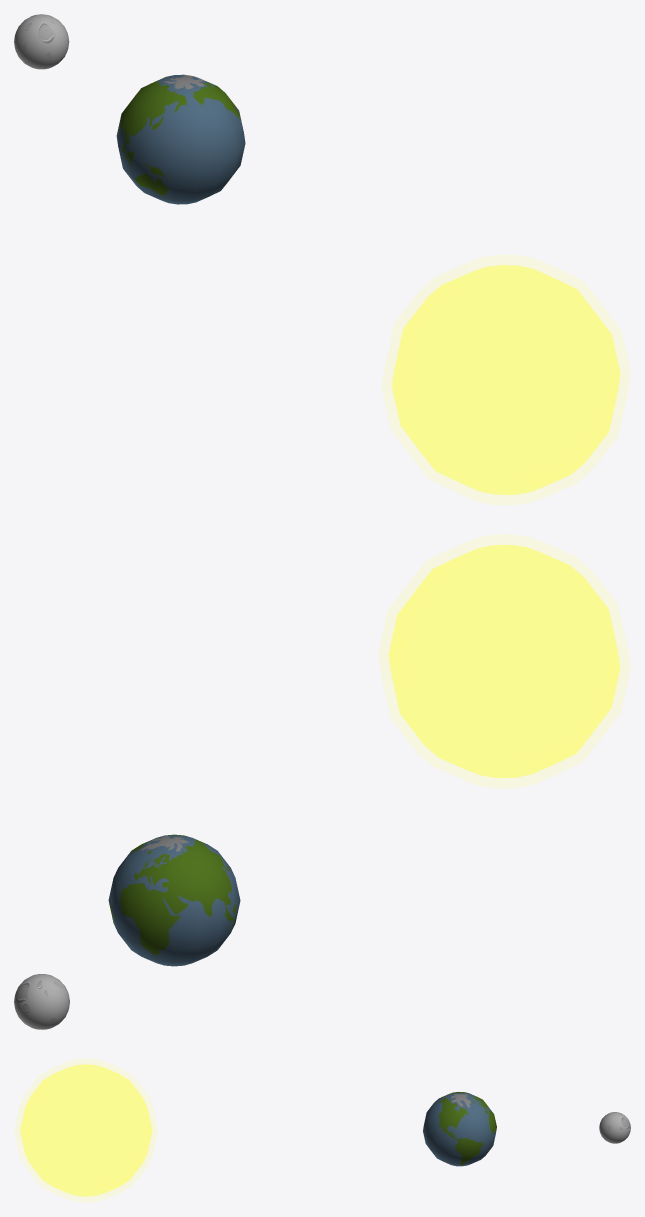
3 renders of one model, top to bottom at view 1: azimuth 30°, elevation 25°; view 2: azimuth 150°, elevation 25°; view 3: azimuth 270°, elevation 25°, orthographic. The views are drawn at different scales.
Parts seen in each view (by area): view 1: solecito.1, tierra, luna A; view 2: solecito.1, tierra, luna A; view 3: solecito.1, tierra, luna A.
Part boxes in pixels (x1,y1,x2,y2): solecito.1: (392, 265, 620, 494); tierra: (116, 74, 245, 204); luna A: (14, 14, 69, 69); solecito.1: (388, 545, 619, 777); tierra: (108, 834, 240, 966); luna A: (14, 974, 69, 1029); solecito.1: (20, 1064, 152, 1196); tierra: (423, 1091, 496, 1166); luna A: (599, 1112, 630, 1143).
Size of what is drawn, in the model's own units: 387 by 387 by 1651.
Materials: 4 (2 with a texture image).
